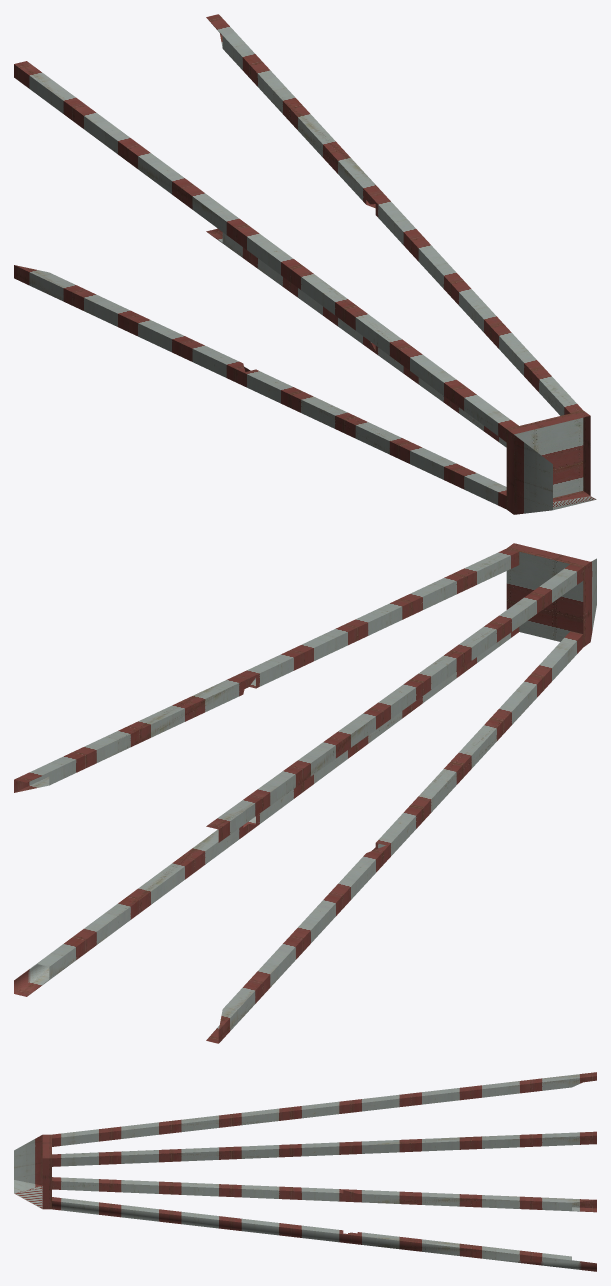
3 renders of one model, top to bottom at view 1: azimuth 30°, elevation 25°; view 2: azimuth 150°, elevation 25°; view 3: azimuth 270°, elevation 25°, orthographic. The views are drawn at different scales.
Parts seen in each view (by area): view 1: 1.014; view 2: 1.014; view 3: 1.014.
Part boxes in pixels (x1,y1,x2,y2): 1.014: [14, 14, 596, 514]; 1.014: [14, 543, 596, 1043]; 1.014: [14, 1072, 596, 1271].
Size of the model in its own units: 2.56 by 2.56 by 9.93.
